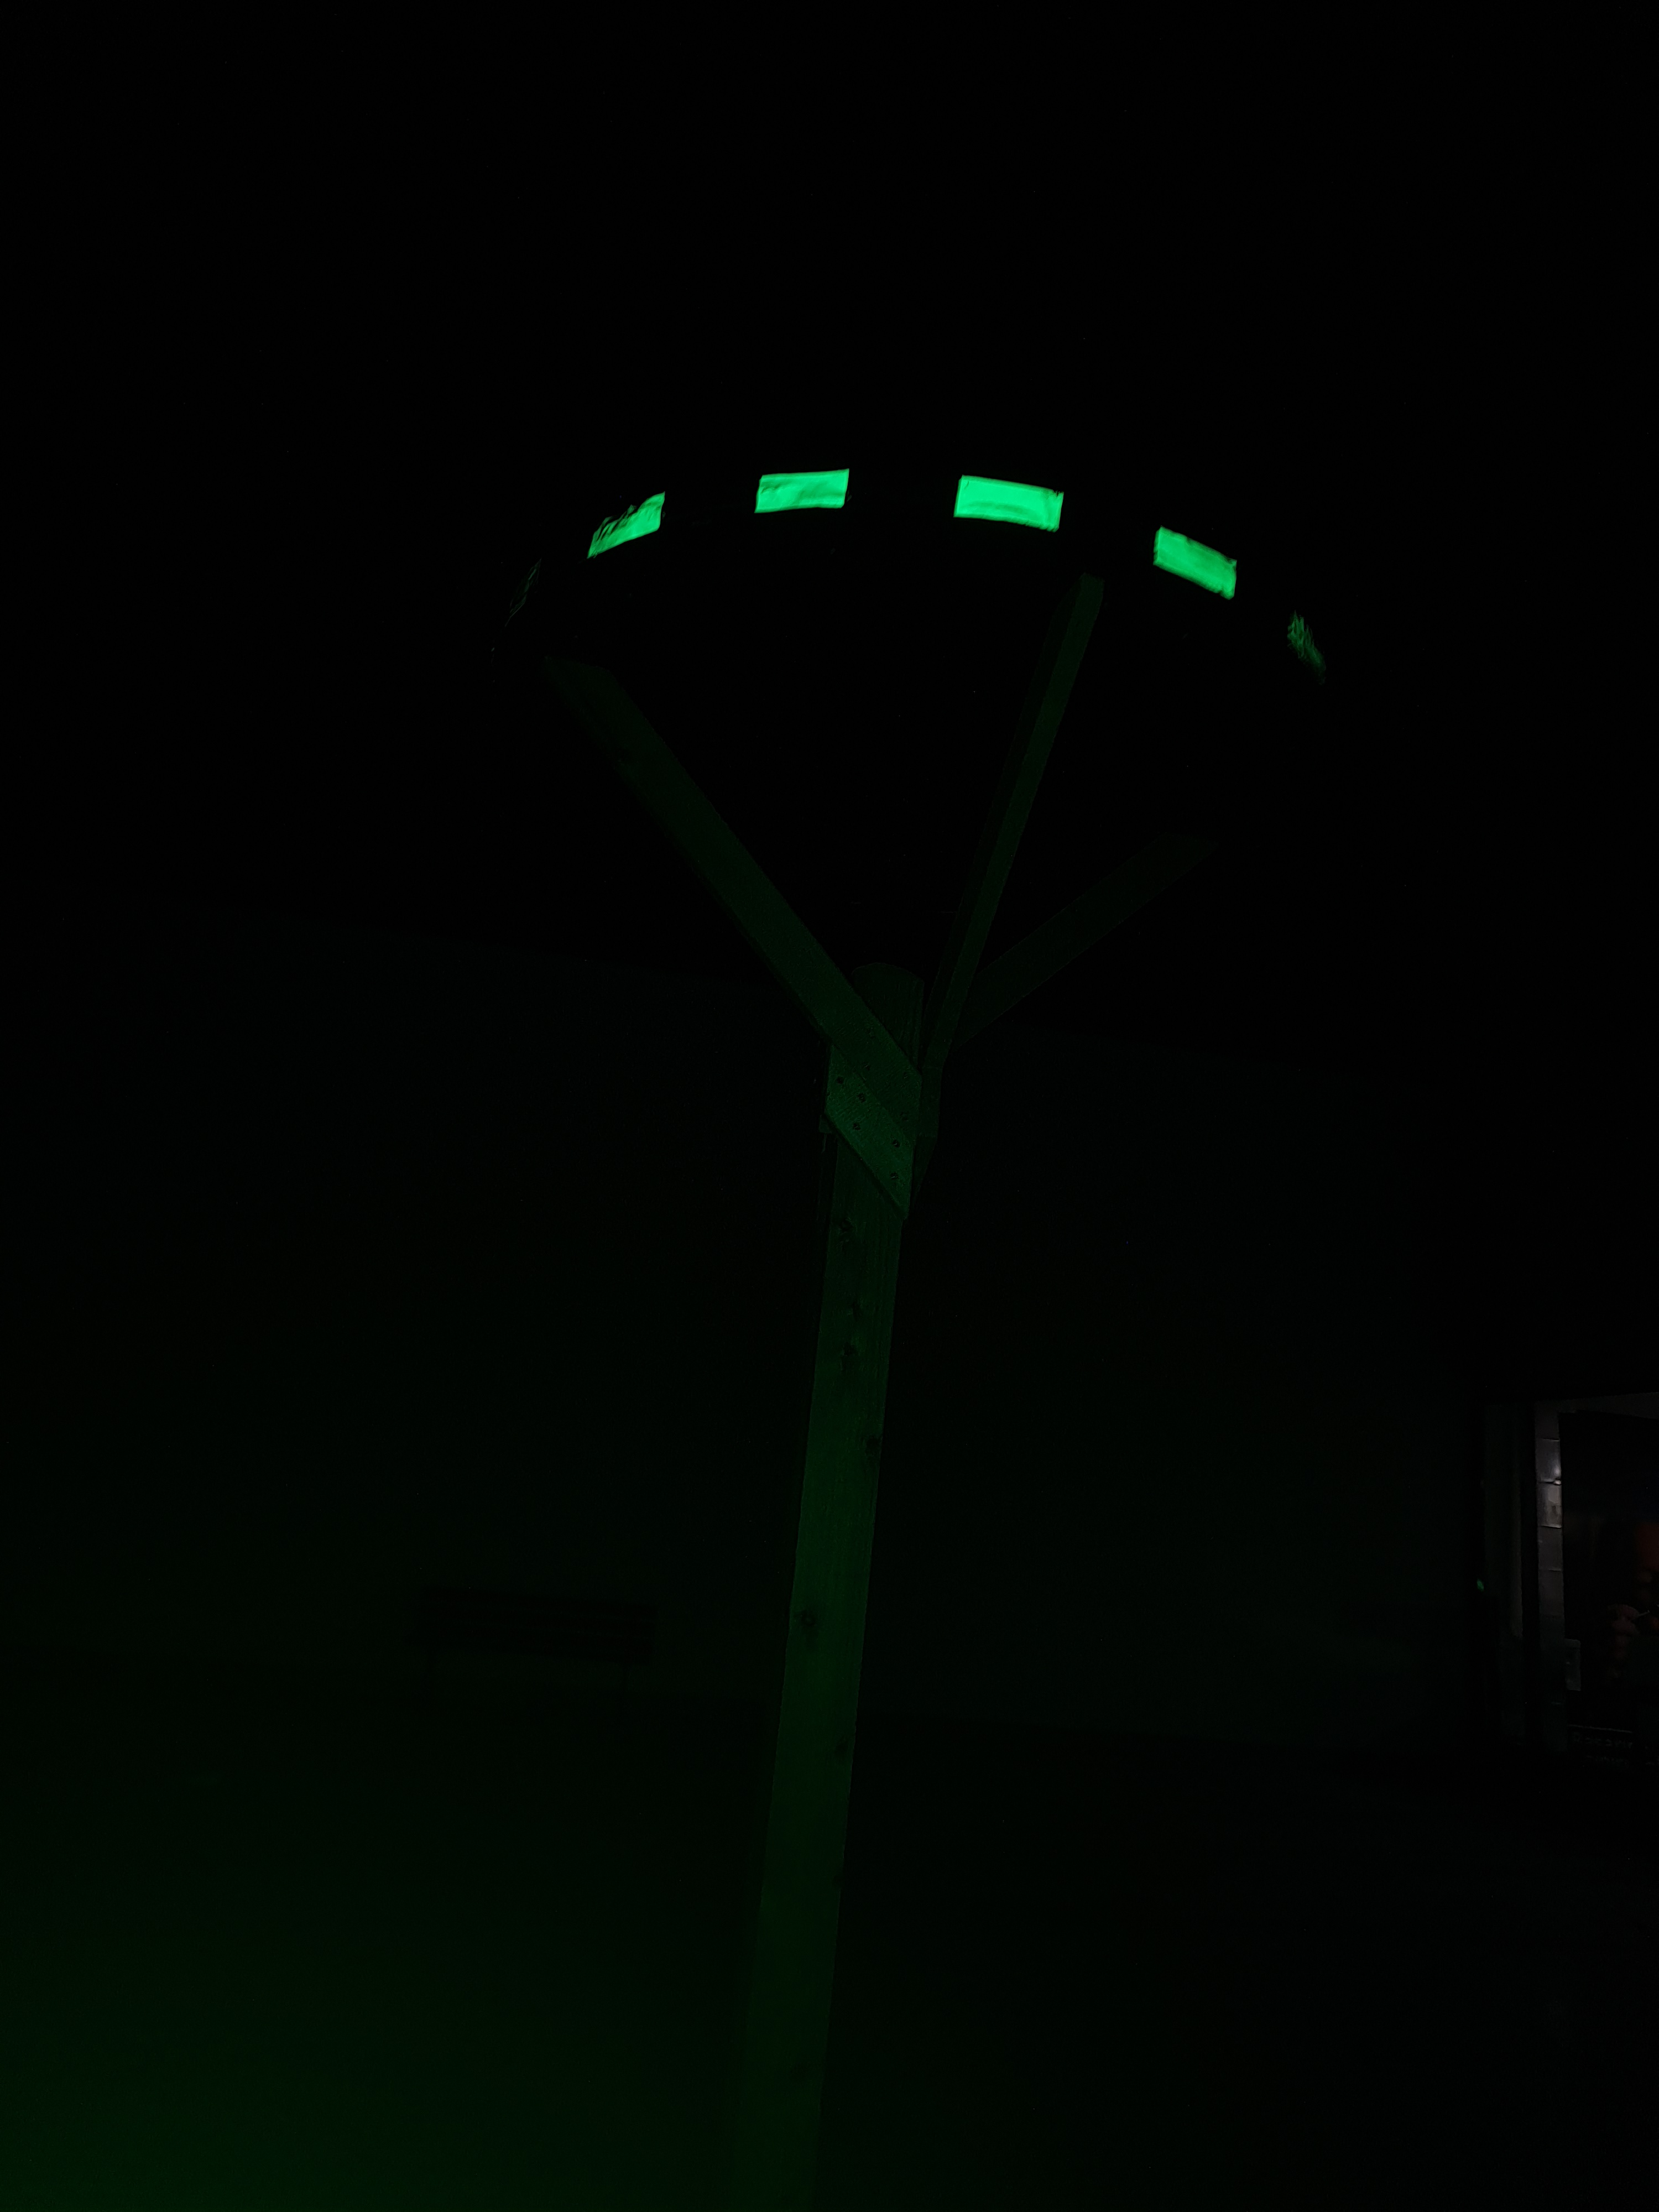hoop: (580, 460, 1330, 681)
